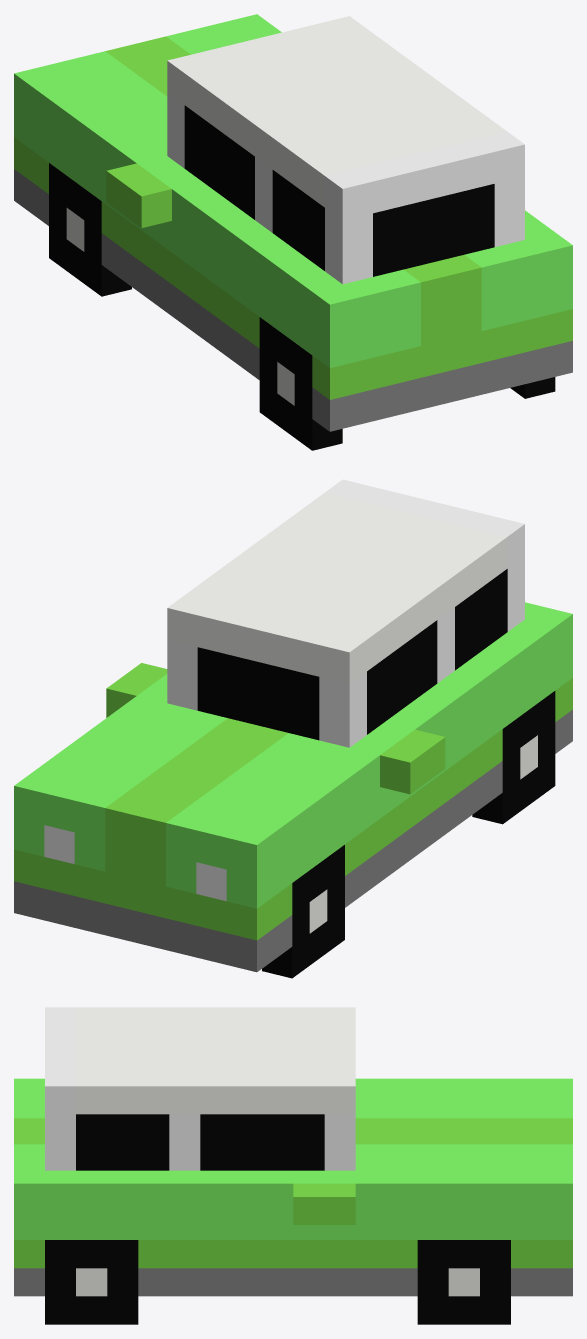
The model's file is Car1.obj.
3 views of the same model, one above another, from view 1: azimuth 30°, elevation 25°; view 2: azimuth 150°, elevation 25°; view 3: azimuth 270°, elevation 25° (orthographic). The views are drawn at different scales.
Bounding box in the file's own units: 1 × 0.8 × 1.8.
Materials: 1 (1 with a texture image).
